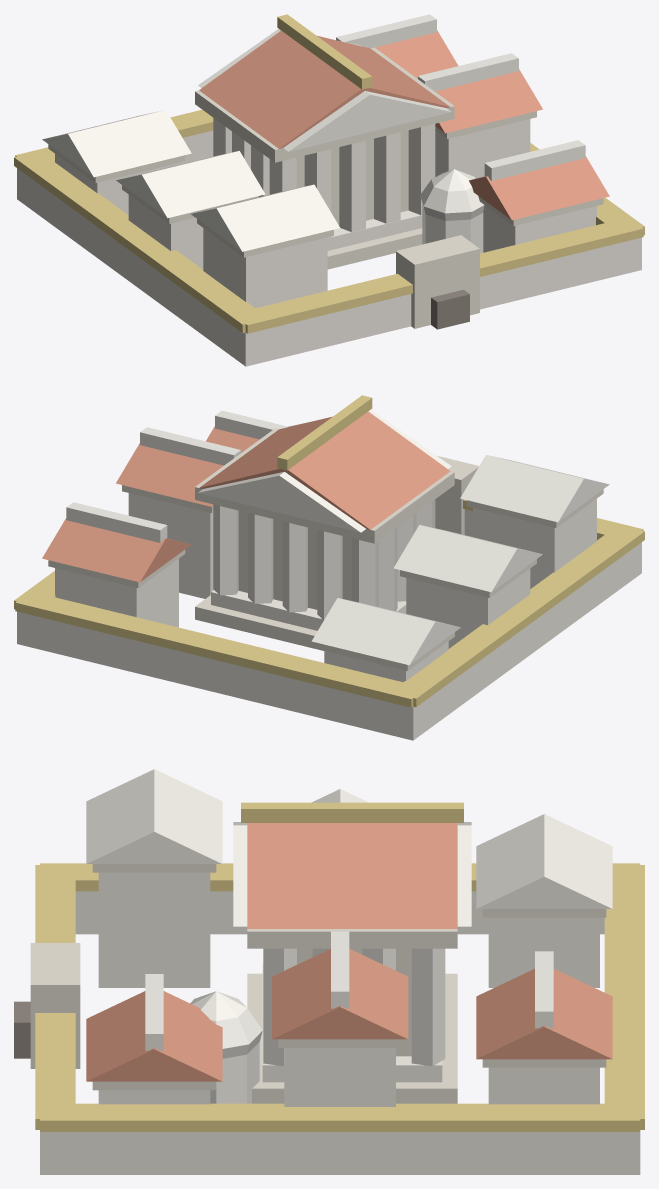
Rendered from city.glb.
The picture shows the model from 3 angles, top to bottom: view 1: azimuth 30°, elevation 25°; view 2: azimuth 150°, elevation 25°; view 3: azimuth 270°, elevation 25°; orthographic projection. The views are drawn at different scales.
Visible parts, largest first — view 1: classical_city; view 2: classical_city; view 3: classical_city.
Part boxes in pixels (<box>): classical_city: <box>14,14,644,366</box>; classical_city: <box>14,395,644,740</box>; classical_city: <box>14,769,644,1174</box>.
Size of the model in its own units: 0.9662 by 0.4235 by 1.
